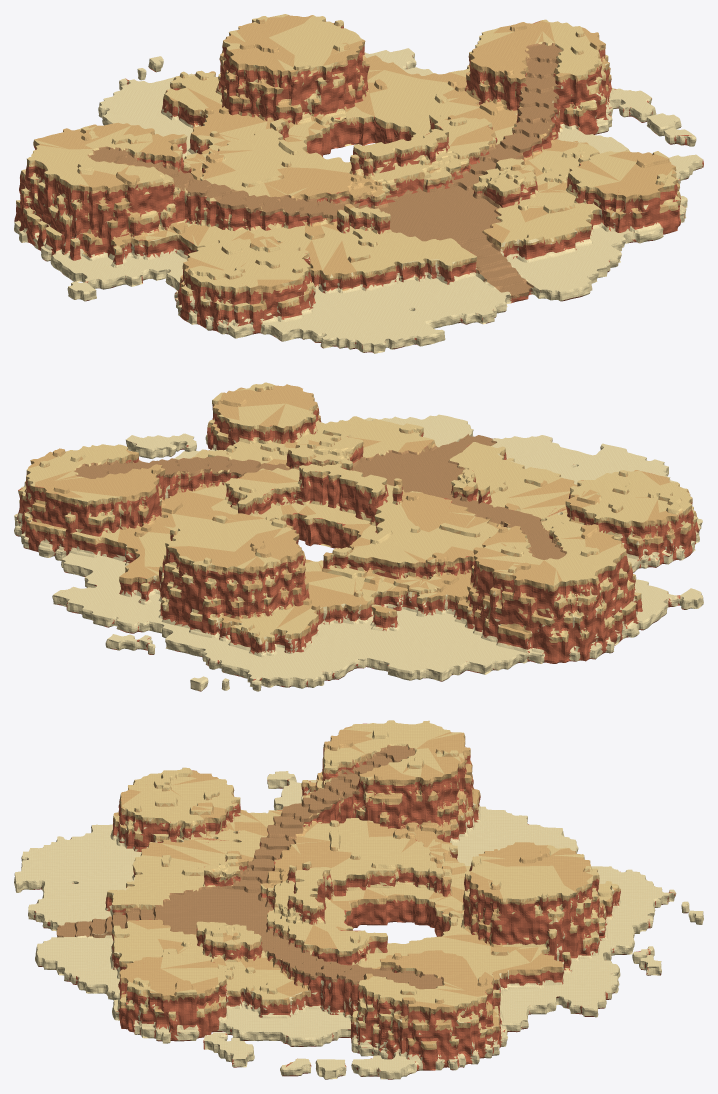
The model's file is DesertCoast_Terrain.fbx.
3 views of the same model, one above another, from view 1: azimuth 30°, elevation 25°; view 2: azimuth 150°, elevation 25°; view 3: azimuth 270°, elevation 25° (orthographic). The views are drawn at different scales.
Parts seen in each view (by area): view 1: DesertCoast_6_10_Beach, DesertCoast_7_10_Beach, DesertCoast_5_8_Rock, DesertCoast_7_9_Grass, DesertCoast_5_7_Grass, DesertCoast_7_6_GrassDark, DesertCoast_5_8_Beach, DesertCoast_9_9_Grass, DesertCoast_8_6_Grass, DesertCoast_7_7_Grass, DesertCoast_9_7_GrassDark, DesertCoast_8_8_Grass (+82 smaller); view 2: DesertCoast_6_6_Beach, DesertCoast_7_5_Beach, DesertCoast_7_7_Grass, DesertCoast_5_7_Grass, DesertCoast_5_6_Rock, DesertCoast_5_7_Rock, DesertCoast_8_5_Rock, DesertCoast_9_7_GrassDark, DesertCoast_7_9_Grass, DesertCoast_6_9_Grass, DesertCoast_8_8_Grass, DesertCoast_6_7_GrassDark (+82 smaller); view 3: DesertCoast_7_7_Grass, DesertCoast_10_7_Rock, DesertCoast_8_6_Rock, DesertCoast_7_10_Beach, DesertCoast_6_9_Grass, DesertCoast_10_8_Beach, DesertCoast_6_7_Rock, DesertCoast_6_10_Beach, DesertCoast_7_9_Grass, DesertCoast_8_6_Grass, DesertCoast_6_7_GrassDark, DesertCoast_8_8_Grass (+73 smaller).
Boxes of the visible parts, x1,y1,x2,y2 form: DesertCoast_6_10_Beach: (273, 287, 430, 353); DesertCoast_7_10_Beach: (365, 257, 509, 344); DesertCoast_5_8_Rock: (70, 184, 196, 290); DesertCoast_7_9_Grass: (319, 207, 470, 279); DesertCoast_5_7_Grass: (16, 126, 158, 239); DesertCoast_7_6_GrassDark: (173, 33, 296, 146); DesertCoast_5_8_Beach: (56, 218, 191, 290); DesertCoast_9_9_Grass: (522, 151, 677, 230); DesertCoast_8_6_Grass: (269, 16, 362, 128); DesertCoast_7_7_Grass: (209, 119, 332, 176); DesertCoast_9_7_GrassDark: (443, 31, 527, 131); DesertCoast_8_8_Grass: (366, 126, 512, 189); DesertCoast_6_6_Beach: (337, 603, 498, 681); DesertCoast_7_5_Beach: (205, 621, 336, 691); DesertCoast_7_7_Grass: (304, 516, 453, 591); DesertCoast_5_7_Grass: (478, 524, 636, 637); DesertCoast_5_6_Rock: (452, 575, 570, 674); DesertCoast_5_7_Rock: (549, 535, 644, 661); DesertCoast_8_5_Rock: (111, 549, 237, 656); DesertCoast_9_7_GrassDark: (70, 464, 223, 533); DesertCoast_7_9_Grass: (449, 443, 560, 507); DesertCoast_6_9_Grass: (507, 470, 659, 524); DesertCoast_8_8_Grass: (252, 444, 393, 548); DesertCoast_6_7_GrassDark: (401, 526, 537, 612); DesertCoast_7_7_Grass: (334, 837, 464, 907); DesertCoast_10_7_Rock: (342, 981, 458, 1071); DesertCoast_8_6_Rock: (463, 866, 570, 962); DesertCoast_7_10_Beach: (14, 868, 131, 930); DesertCoast_6_9_Grass: (120, 790, 236, 864); DesertCoast_10_8_Beach: (226, 1005, 351, 1073); DesertCoast_6_7_Rock: (343, 767, 457, 860); DesertCoast_6_10_Beach: (14, 812, 140, 880); DesertCoast_7_9_Grass: (109, 853, 238, 909); DesertCoast_8_6_Grass: (450, 856, 571, 953); DesertCoast_6_7_GrassDark: (353, 749, 458, 857); DesertCoast_8_8_Grass: (232, 869, 350, 942).
Size of the model in its own units: 405 by 49.02 by 393.
Materials: 5 (5 with a texture image).
